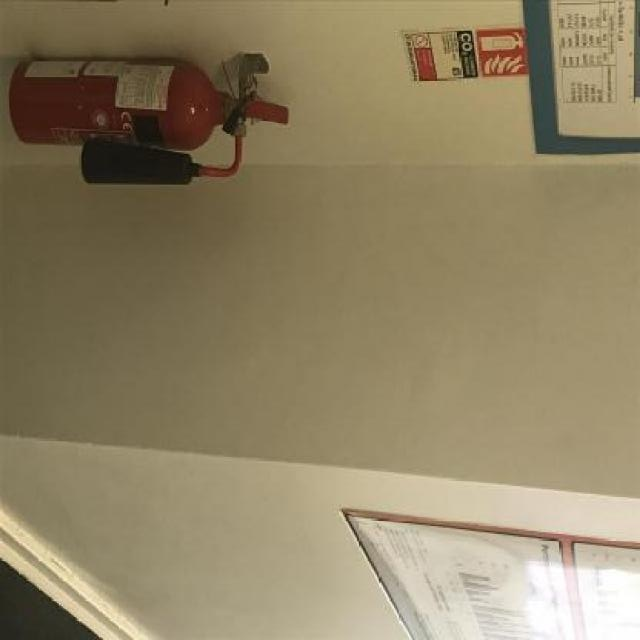fire extinguisher: (8, 54, 289, 188)
